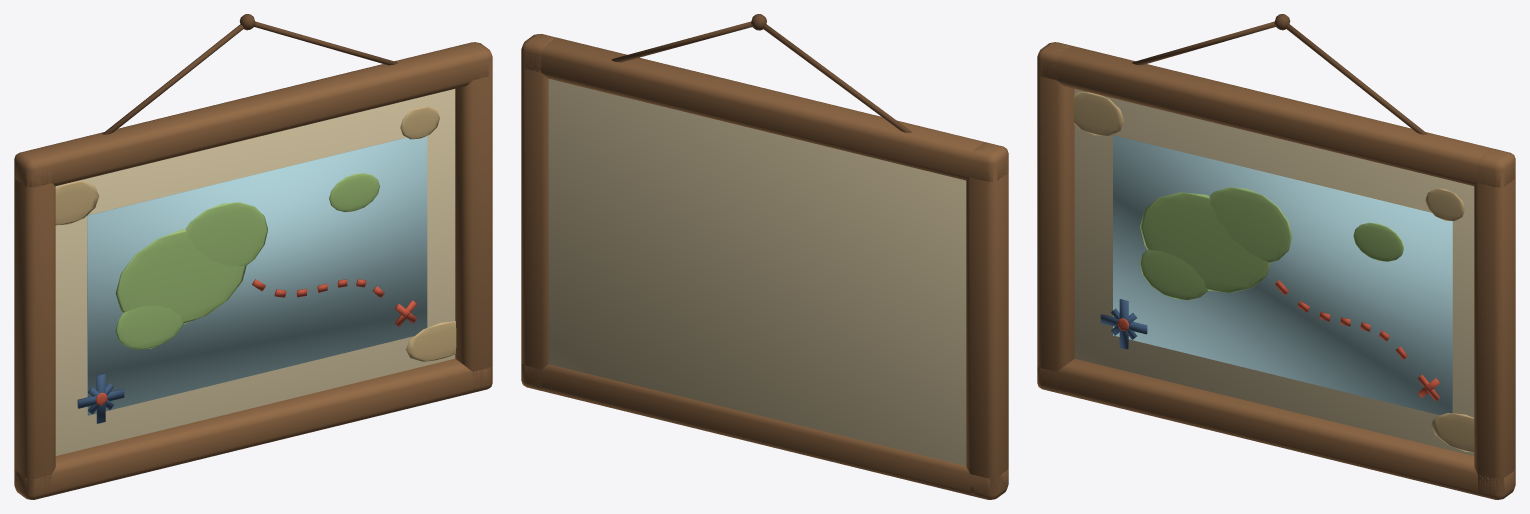
File: sea-chart-frame.glb
3 renders of one model, left to right at view 1: azimuth 30°, elevation 25°; view 2: azimuth 150°, elevation 25°; view 3: azimuth 330°, elevation 25°, orthographic.
Parts seen in each view (by area): view 1: chart; view 2: chart; view 3: chart.
Boxes of the visible parts, x1=… form: chart: x1=14, y1=14, x2=492, y2=499; chart: x1=521, y1=14, x2=1008, y2=499; chart: x1=1037, y1=14, x2=1515, y2=499.
Size of the model in its own units: 0.92 by 0.794 by 0.064.
